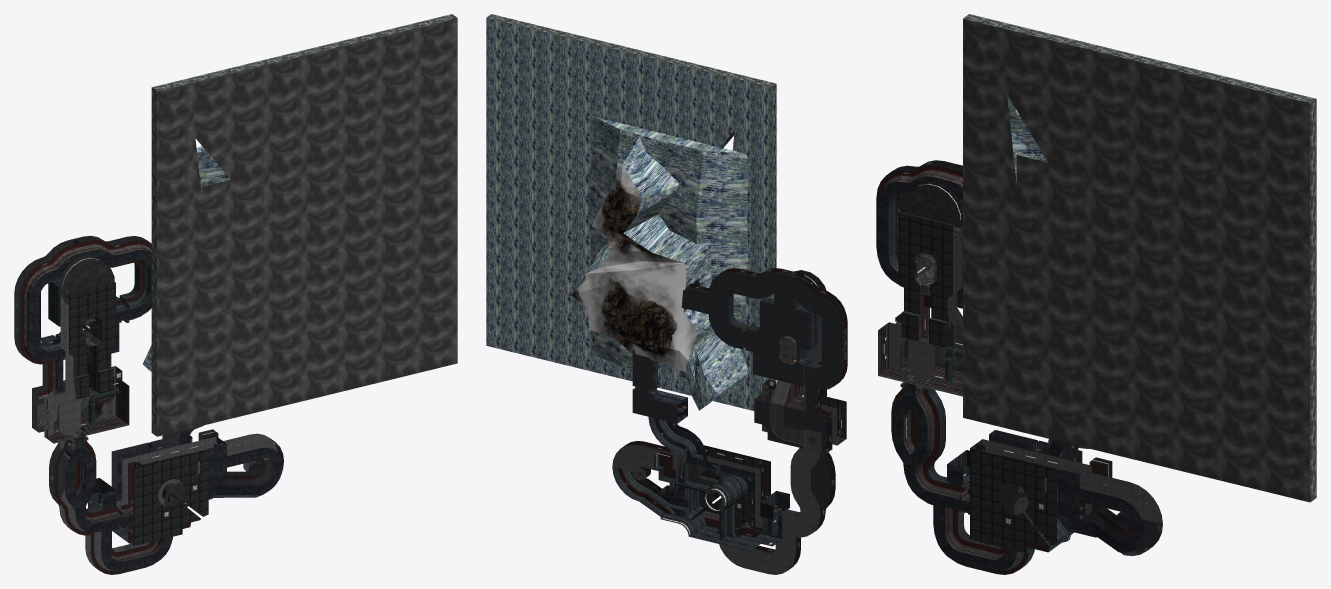
Rendered from DM-Zetar.obj.
3 renders of one model, left to right at view 1: azimuth 30°, elevation 25°; view 2: azimuth 150°, elevation 25°; view 3: azimuth 330°, elevation 25°, orthographic. The views are drawn at different scales.
Parts seen in each view (by area): view 1: genfluid_Sky_gmist2, UTtech1_Base_cbnubase2b, UTtech1_Ceiling_nmceiling5, UTtech1_Floor_bmFloor2, UTtech1_Floor_bmFloor, genfluid_cloud1, UTtech1_Base_Rbase1a, UTtech1_Wall_bmwall3_2a, UTtech1_Wall_bmwall3_2, UTtech1_Wall_bmwall3c_2b, UTtech1_Ceiling_nmceiling2lt3, GenEarth_Rock_Icer3 (+1 smaller); view 2: GenEarth_Rock_Icer3, UTtech1_Floor_bmFloor, Indus1_Skybox_Ptp, UTtech1_Wall_bmwall3_2, UTtech1_Floor_bmFloor2, UTtech1_Base_cbnubase2b, UTtech1_Base_Rbase1a, genfluid_cloud1, UTtech1_Ceiling_nmceiling5, UTtech1_Wall_bmwall3_2a, UTtech1_Floor_bmFloor3, UTtech1_Floor_bmFloor4 (+4 smaller); view 3: genfluid_Sky_gmist2, UTtech1_Ceiling_nmceiling5, UTtech1_Base_cbnubase2b, UTtech1_Floor_bmFloor2, genfluid_cloud1, UTtech1_Wall_bmwall3_2a, UTtech1_Floor_bmFloor, UTtech1_Base_Rbase1a, UTtech1_Wall_bmwall3_2, UTtech1_Ceiling_nmceiling2lt3, GenEarth_Rock_Icer3, UTtech1_Floor_bmFloor3 (+1 smaller).
Boxes of the visible parts, x1=… form: genfluid_Sky_gmist2: x1=157, y1=18, x2=457, y2=436; UTtech1_Base_cbnubase2b: x1=30, y1=249, x2=282, y2=571; UTtech1_Ceiling_nmceiling5: x1=69, y1=283, x2=208, y2=546; UTtech1_Floor_bmFloor2: x1=44, y1=294, x2=277, y2=570; UTtech1_Floor_bmFloor: x1=14, y1=235, x2=273, y2=530; genfluid_cloud1: x1=151, y1=14, x2=457, y2=436; UTtech1_Base_Rbase1a: x1=19, y1=239, x2=266, y2=574; UTtech1_Wall_bmwall3_2a: x1=32, y1=247, x2=162, y2=567; UTtech1_Wall_bmwall3_2: x1=38, y1=260, x2=283, y2=570; UTtech1_Wall_bmwall3c_2b: x1=23, y1=243, x2=151, y2=399; UTtech1_Ceiling_nmceiling2lt3: x1=67, y1=261, x2=114, y2=292; GenEarth_Rock_Icer3: x1=143, y1=146, x2=266, y2=371; GenEarth_Rock_Icer3: x1=486, y1=18, x2=771, y2=410; UTtech1_Floor_bmFloor: x1=632, y1=272, x2=842, y2=514; Indus1_Skybox_Ptp: x1=571, y1=164, x2=696, y2=372; UTtech1_Wall_bmwall3_2: x1=612, y1=293, x2=832, y2=570; UTtech1_Floor_bmFloor2: x1=612, y1=317, x2=837, y2=574; UTtech1_Base_cbnubase2b: x1=630, y1=273, x2=843, y2=553; UTtech1_Base_Rbase1a: x1=618, y1=268, x2=847, y2=568; genfluid_cloud1: x1=486, y1=14, x2=776, y2=384; UTtech1_Ceiling_nmceiling5: x1=699, y1=319, x2=846, y2=528; UTtech1_Wall_bmwall3_2a: x1=621, y1=380, x2=845, y2=556; UTtech1_Floor_bmFloor3: x1=770, y1=380, x2=802, y2=444; UTtech1_Floor_bmFloor4: x1=612, y1=338, x2=821, y2=551; genfluid_Sky_gmist2: x1=963, y1=18, x2=1310, y2=502; UTtech1_Ceiling_nmceiling5: x1=898, y1=212, x2=1056, y2=553; UTtech1_Base_cbnubase2b: x1=877, y1=176, x2=1144, y2=571; UTtech1_Floor_bmFloor2: x1=889, y1=225, x2=1162, y2=569; genfluid_cloud1: x1=963, y1=14, x2=1316, y2=501; UTtech1_Wall_bmwall3_2a: x1=878, y1=184, x2=1050, y2=566; UTtech1_Floor_bmFloor: x1=891, y1=160, x2=1162, y2=551; UTtech1_Base_Rbase1a: x1=876, y1=165, x2=1133, y2=574; UTtech1_Wall_bmwall3_2: x1=888, y1=193, x2=1151, y2=570; UTtech1_Ceiling_nmceiling2lt3: x1=900, y1=188, x2=954, y2=224; GenEarth_Rock_Icer3: x1=1007, y1=95, x2=1047, y2=182; UTtech1_Floor_bmFloor3: x1=935, y1=305, x2=962, y2=366.
Size of the model in its own units: 105 by 122 by 19.48.
